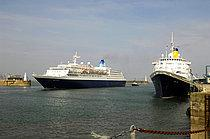Ship: (28, 47, 130, 95), (148, 27, 206, 102)
